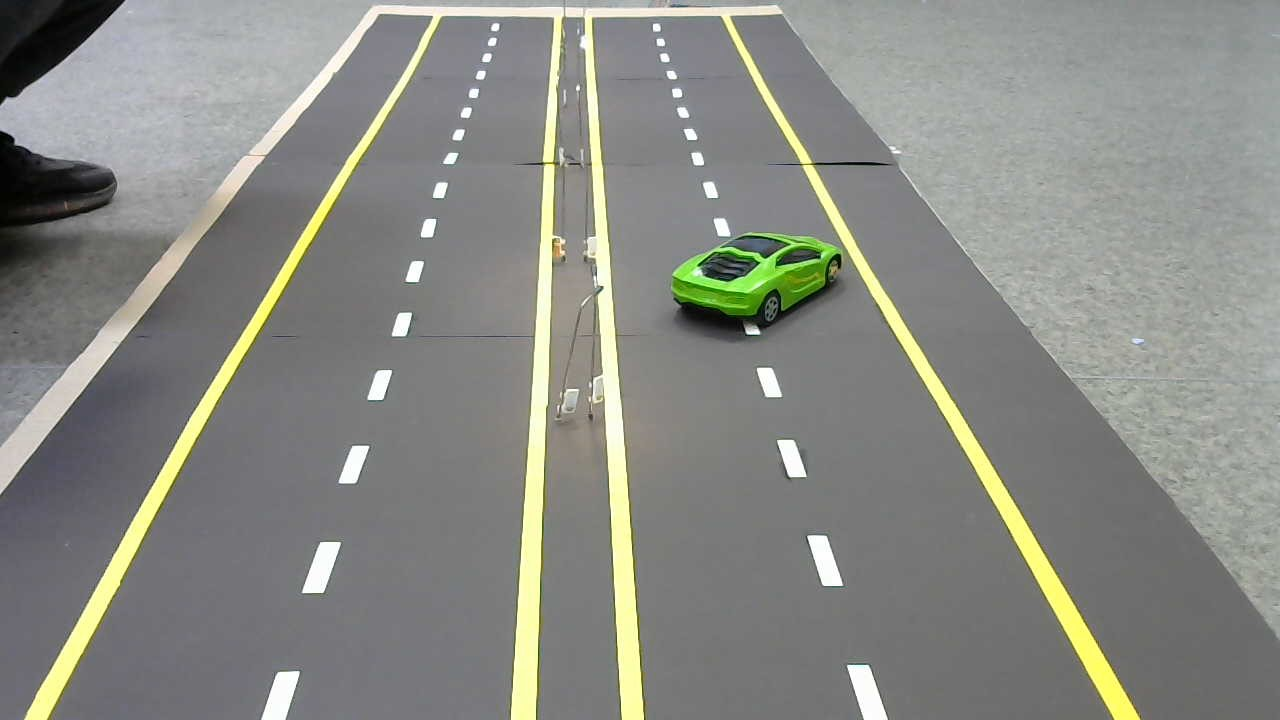overturn_car: (666, 226, 853, 331)
